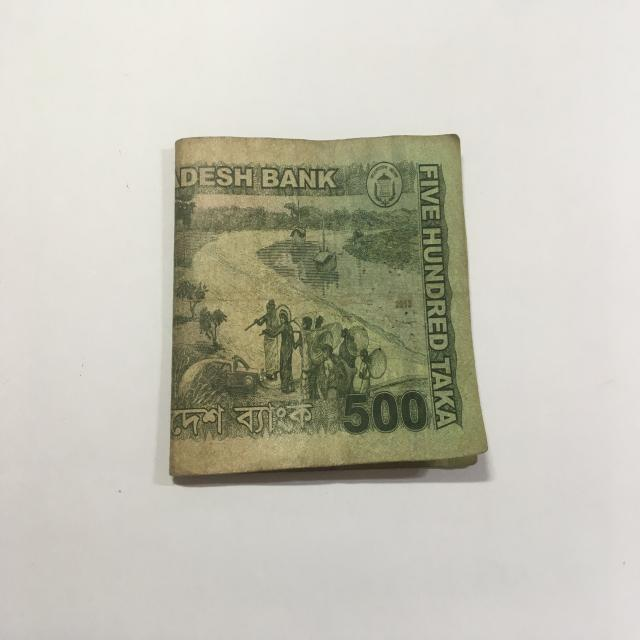Taka: (170, 129, 490, 481)
